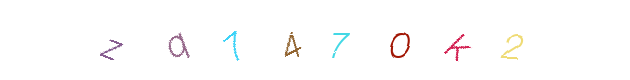0: (359, 0, 439, 80)
2: (472, 0, 552, 80)
4: (274, 0, 354, 80)
7: (247, 0, 327, 80), (278, 0, 358, 80)
K: (416, 0, 496, 80)
Q: (246, 0, 326, 80)
Z: (136, 0, 216, 80)
